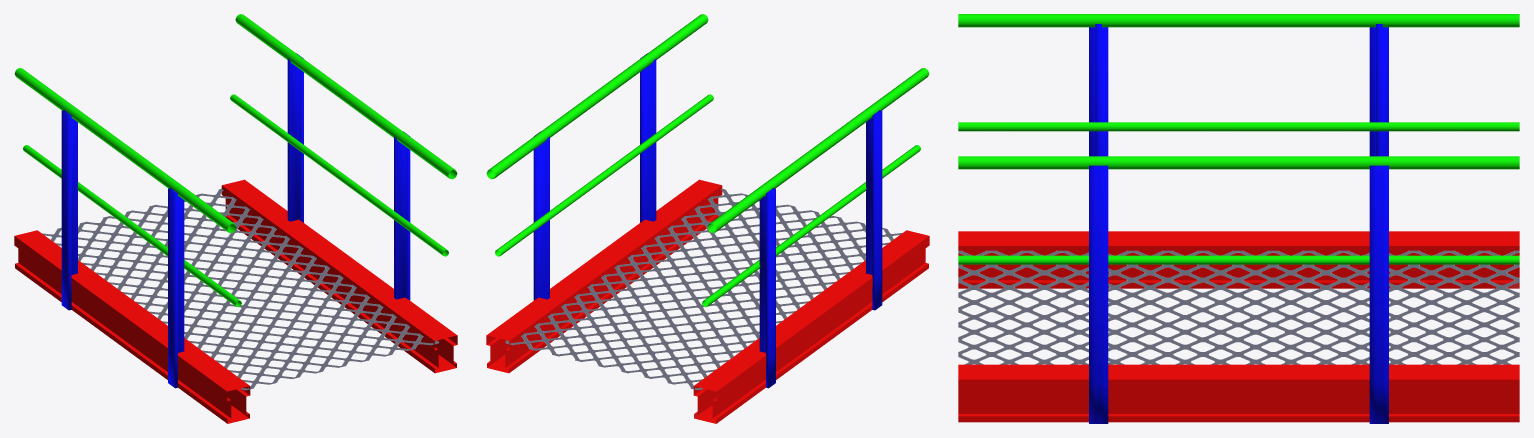
The model's file is Plataforma.fbx.
The picture shows the model from 3 angles, left to right: view 1: azimuth 30°, elevation 25°; view 2: azimuth 150°, elevation 25°; view 3: azimuth 270°, elevation 25°; orthographic projection. The views are drawn at different scales.
Parts seen in each view (by area): view 1: Plataforma; view 2: Plataforma; view 3: Plataforma.
Boxes of the visible parts, x1,y1,x2,y2 form: Plataforma: (14,14,457,423); Plataforma: (486,14,929,423); Plataforma: (958,14,1519,423).
Bounding box in the file's own units: 128 × 103 × 200.
